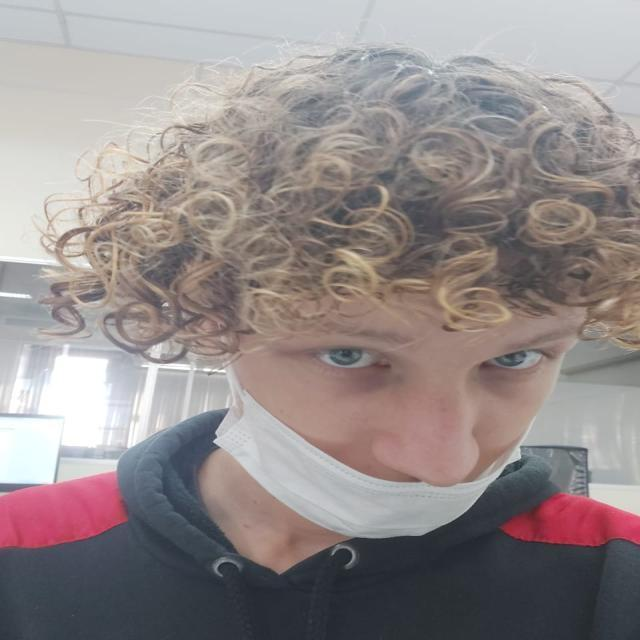hairnet: (222, 315, 578, 538)
